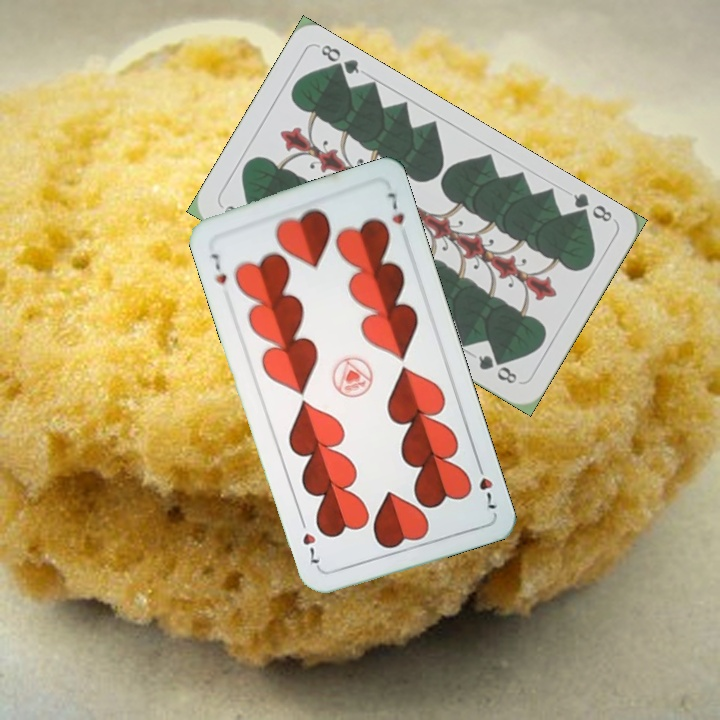G8: (568, 189, 615, 225)
H7: (472, 457, 499, 512), (206, 249, 230, 287)
